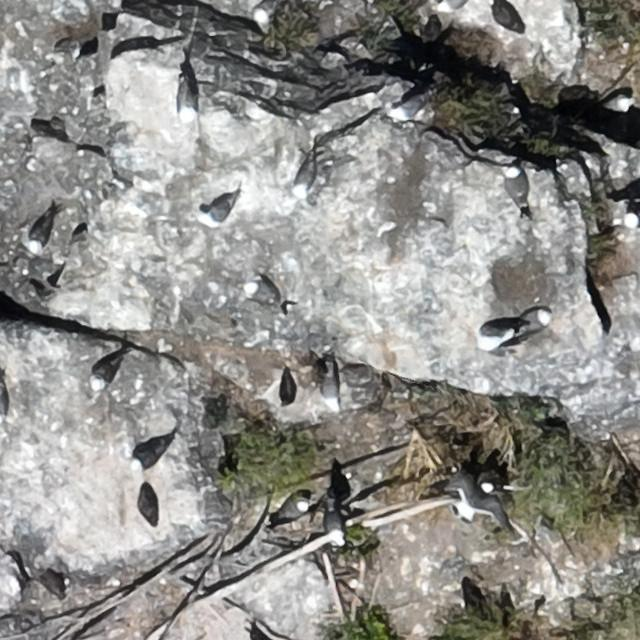F: (448, 476, 506, 523)
umineko: (131, 437, 175, 470), (198, 193, 239, 228), (245, 278, 286, 309), (477, 319, 514, 352), (177, 63, 196, 124), (292, 152, 318, 195), (272, 496, 310, 524), (319, 366, 341, 412), (324, 504, 346, 546), (91, 360, 118, 388), (506, 168, 526, 202), (518, 308, 548, 330), (27, 220, 48, 250), (606, 95, 631, 112), (438, 0, 465, 11)
